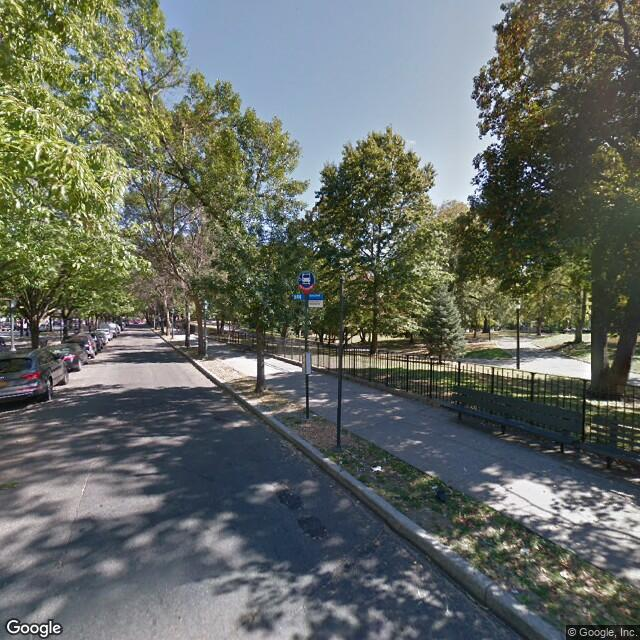litter: (429, 486, 448, 507), (372, 464, 384, 474), (312, 411, 318, 417), (336, 459, 344, 463)
